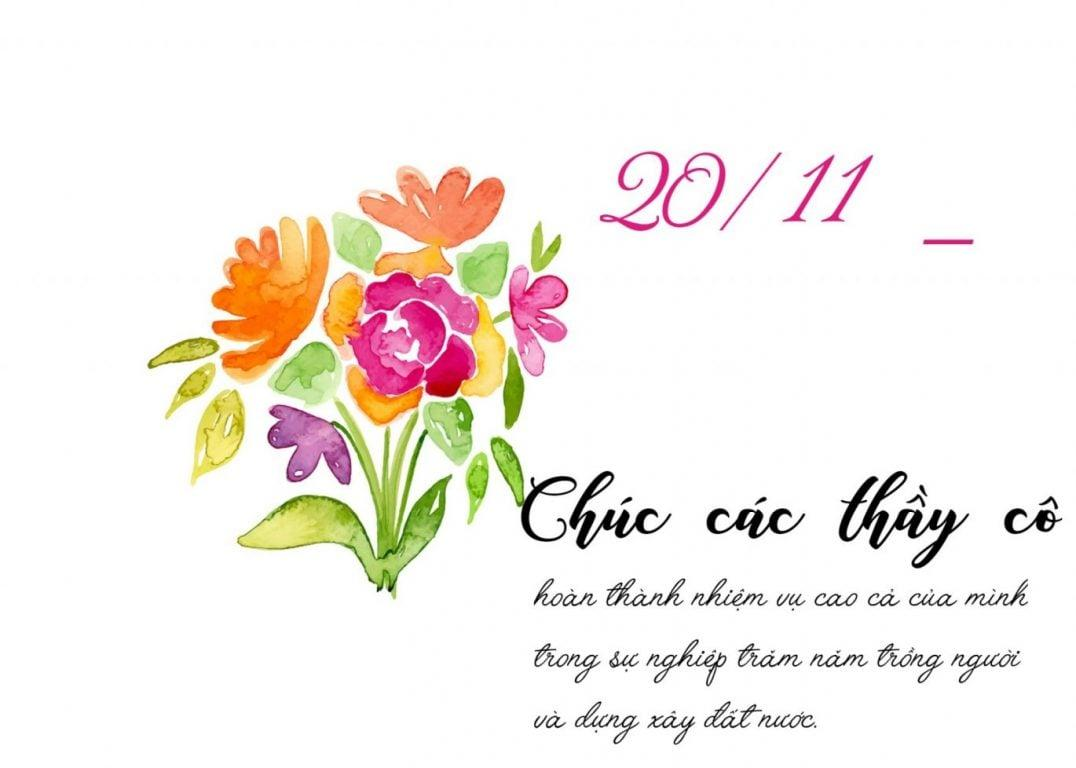text: (517, 468, 1067, 570), (528, 634, 1025, 689), (596, 146, 878, 236), (530, 574, 1032, 614), (528, 699, 820, 747)
